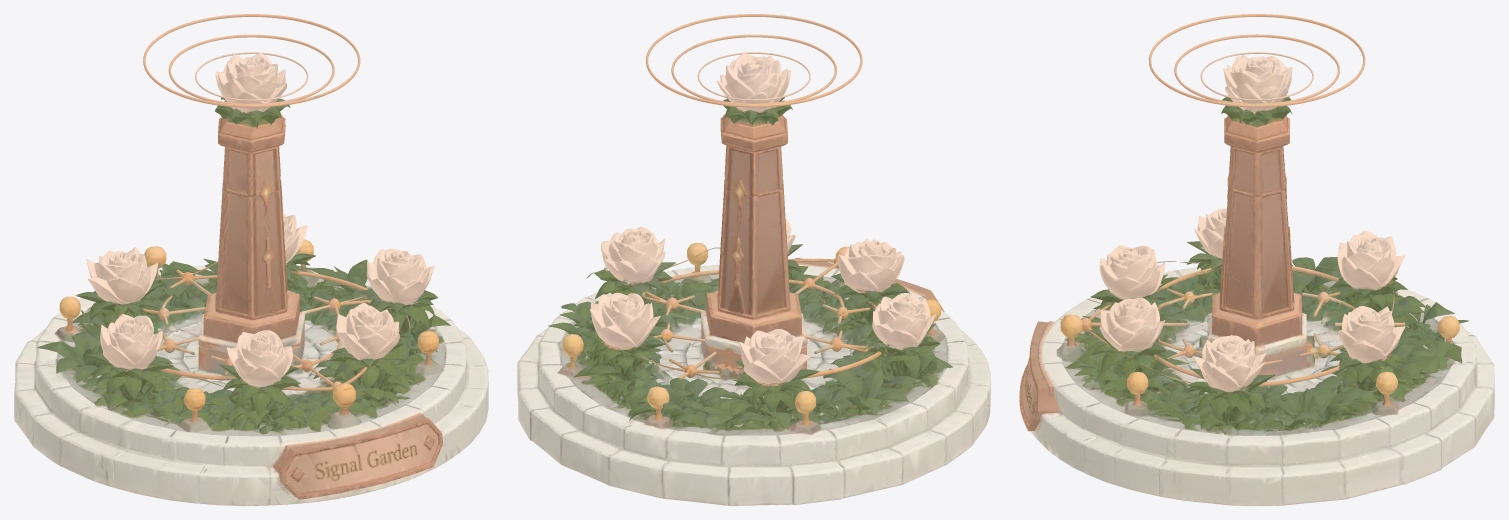
The model's file is ai-signal-garden.glb.
3 renders of one model, left to right at view 1: azimuth 30°, elevation 25°; view 2: azimuth 150°, elevation 25°; view 3: azimuth 270°, elevation 25°, orthographic.
Bounding box in the file's own units: 1.9 × 1.53 × 1.9.
Materials: 1 (1 with a texture image).
